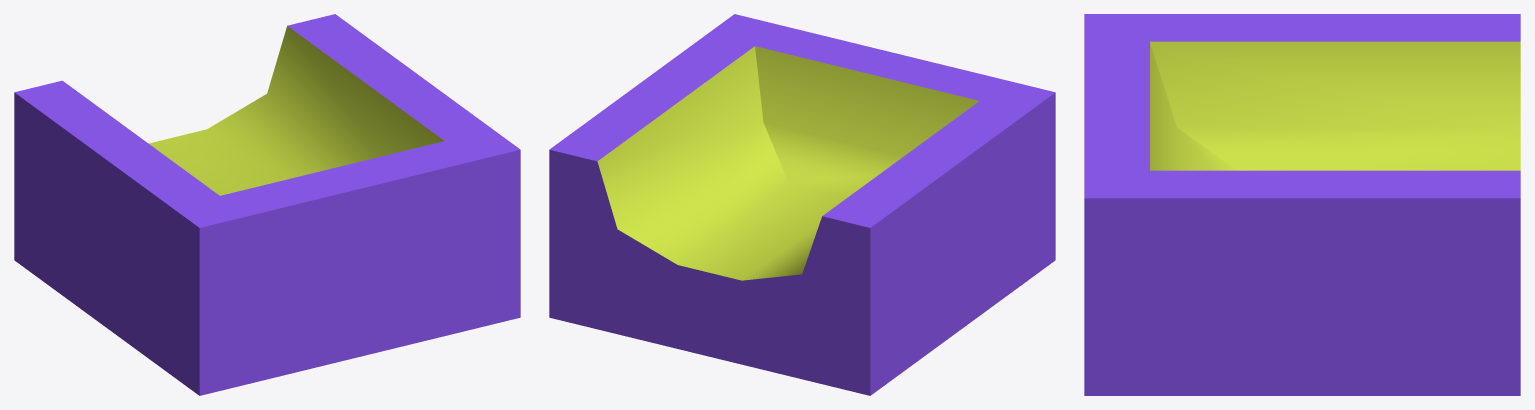
File: end_square.fbx
3 views of the same model, side by side, from view 1: azimuth 30°, elevation 25°; view 2: azimuth 150°, elevation 25°; view 3: azimuth 270°, elevation 25° (orthographic). The views are drawn at different scales.
Parts seen in each view (by area): view 1: end_square; view 2: end_square; view 3: end_square.
Boxes of the visible parts, x1=… form: end_square: x1=14, y1=14, x2=520, y2=395; end_square: x1=549, y1=14, x2=1055, y2=395; end_square: x1=1084, y1=14, x2=1520, y2=395.
Size of the model in its own units: 10 by 5 by 10.
